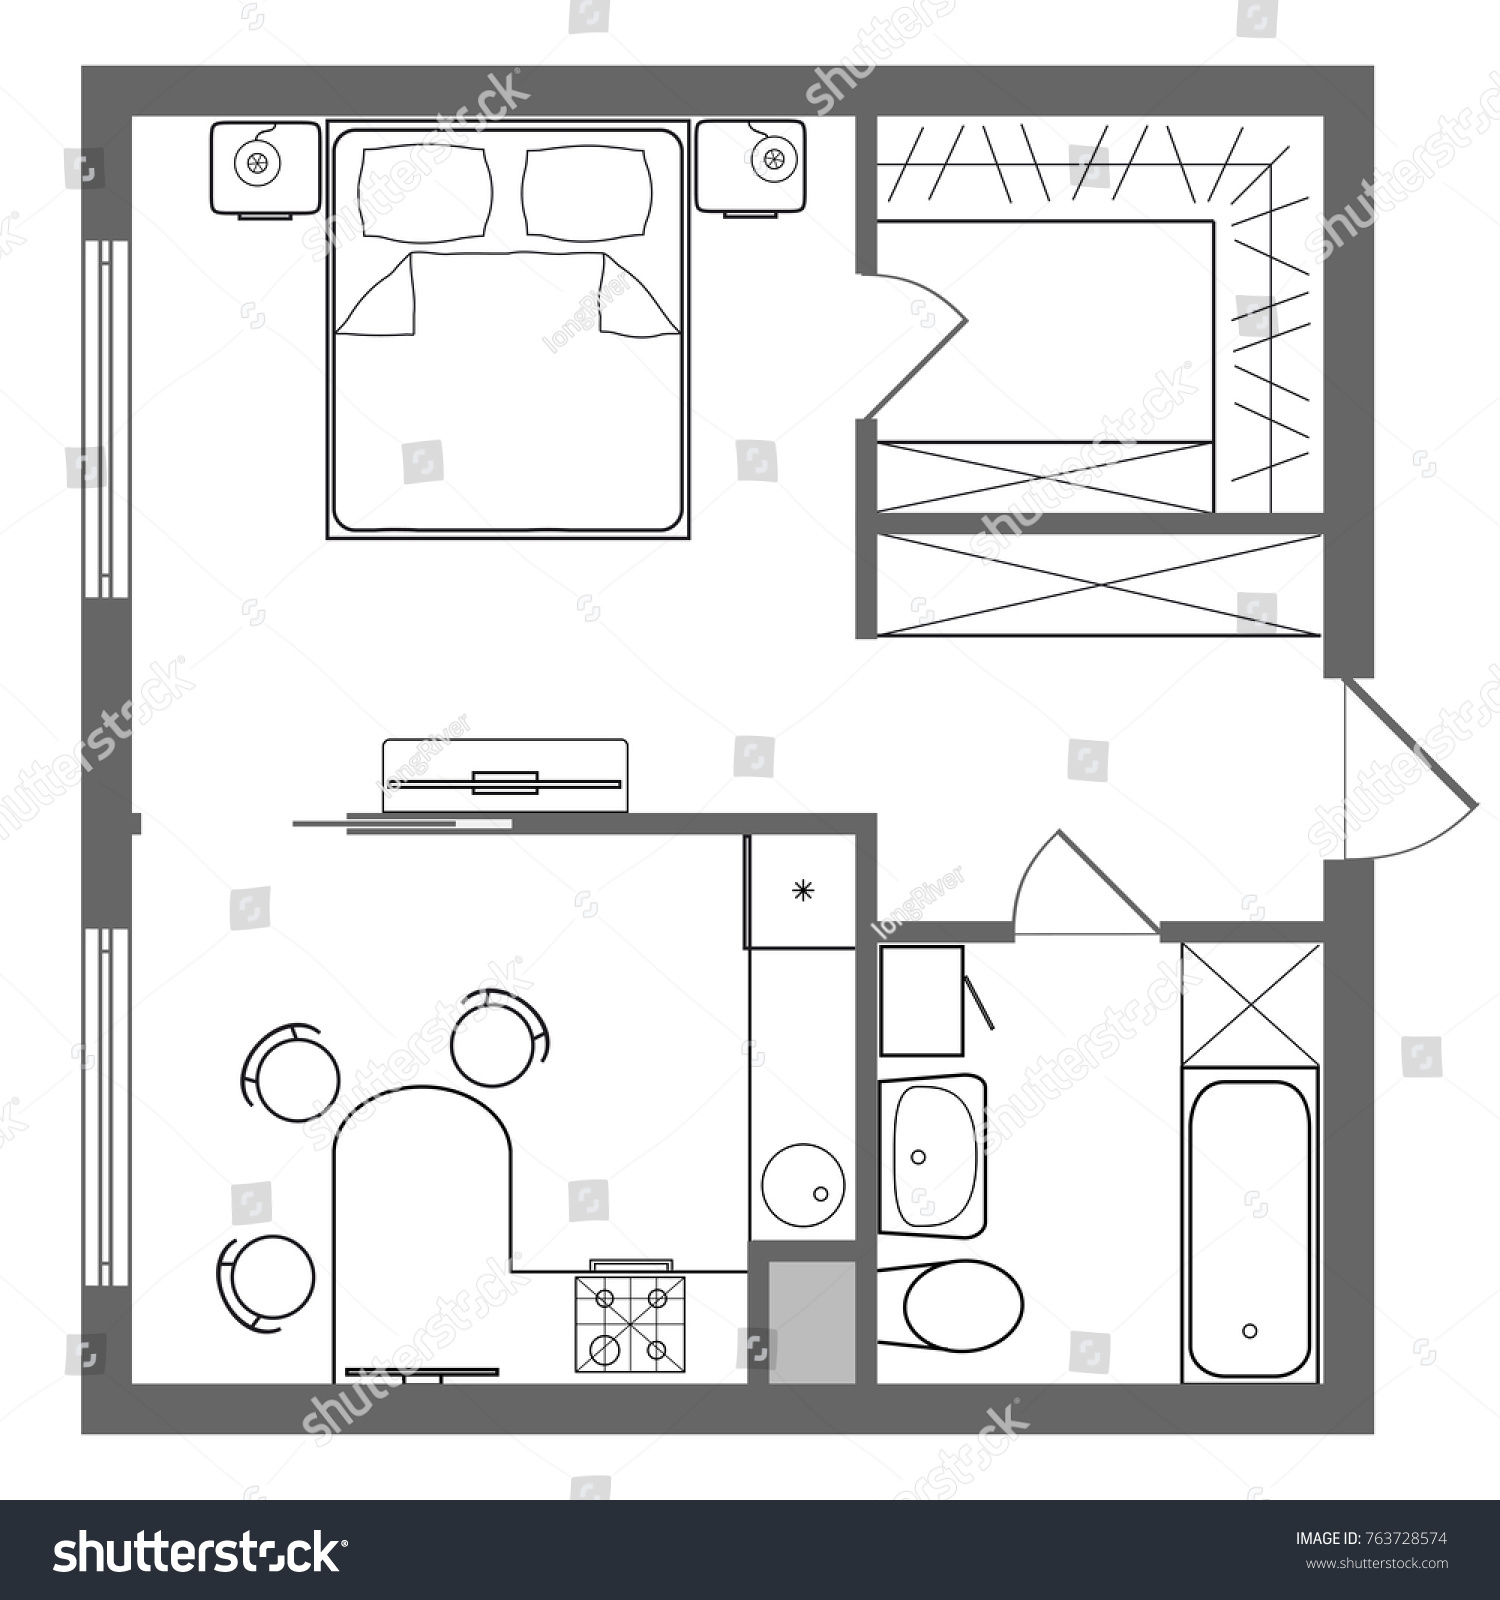wall: (78, 1374, 1380, 1444), (80, 61, 1375, 121), (1321, 68, 1372, 677), (1320, 863, 1370, 1434), (849, 812, 883, 1391), (849, 502, 1377, 539), (75, 592, 128, 930), (516, 809, 877, 843), (78, 65, 131, 238), (844, 65, 883, 276), (80, 1293, 133, 1429), (853, 416, 880, 643), (854, 913, 1021, 947), (1150, 916, 1328, 946), (341, 812, 458, 833)
